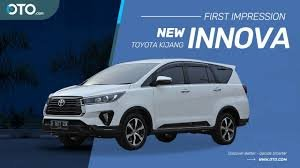mobil: (42, 56, 251, 150)
